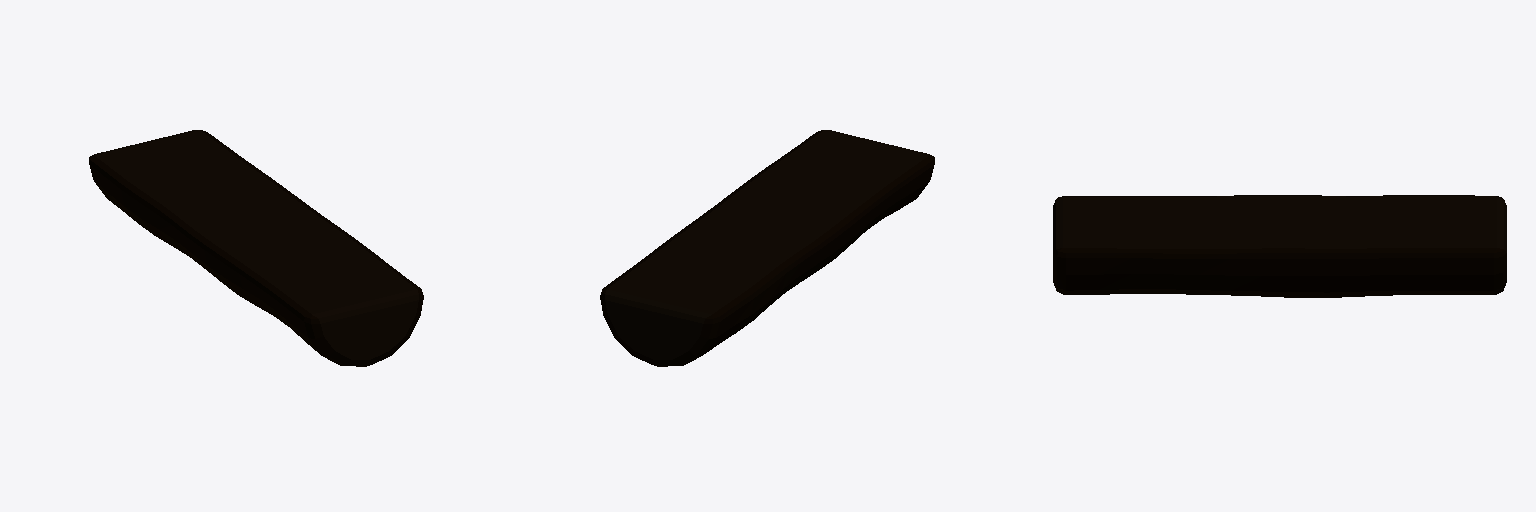
The model's file is timber-2.obj.
3 views of the same model, side by side, from view 1: azimuth 30°, elevation 25°; view 2: azimuth 150°, elevation 25°; view 3: azimuth 270°, elevation 25° (orthographic).
Visible parts, largest first — view 1: Cylinder; view 2: Cylinder; view 3: Cylinder.
Boxes of the visible parts, x1=… form: Cylinder: x1=89, y1=130, x2=423, y2=366; Cylinder: x1=600, y1=130, x2=934, y2=366; Cylinder: x1=1053, y1=195, x2=1506, y2=297.
Size of the model in its own units: 0.1549 by 0.0822 by 0.5.